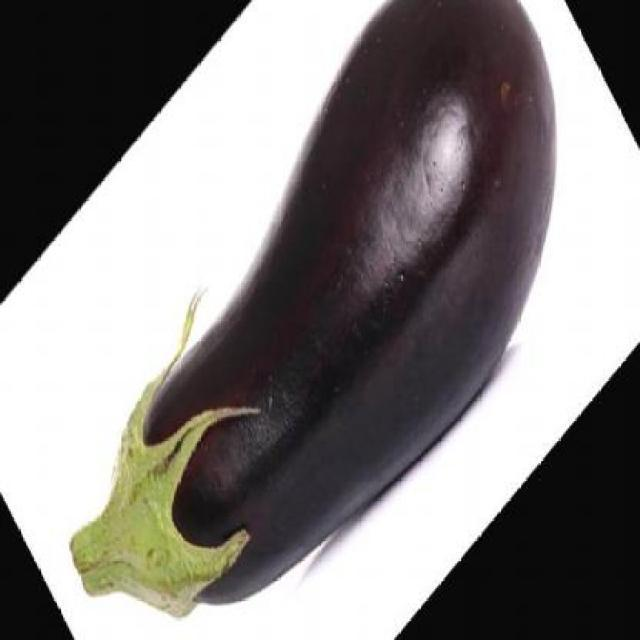eggplant: (58, 0, 560, 640)
